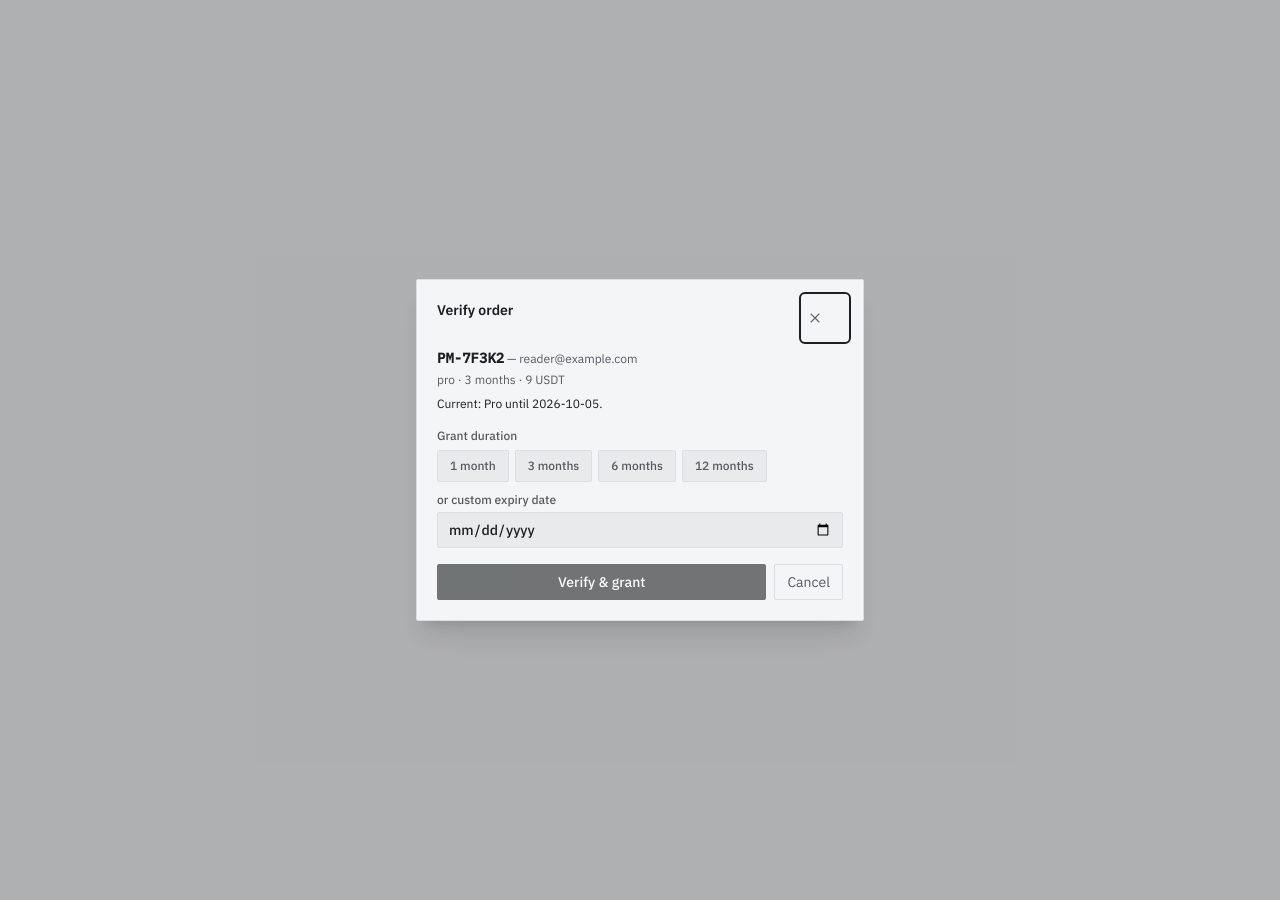
Test case: previews the stacked expiry when the user already has one
The width and height of the screenshot is (1280, 900).
Expected: the text "Current: Pro until 2026-10-05." is shown, [437,396,602,411]
Click the button with test id "duration-3" at coordinates (554, 466), box [515,450,592,482]
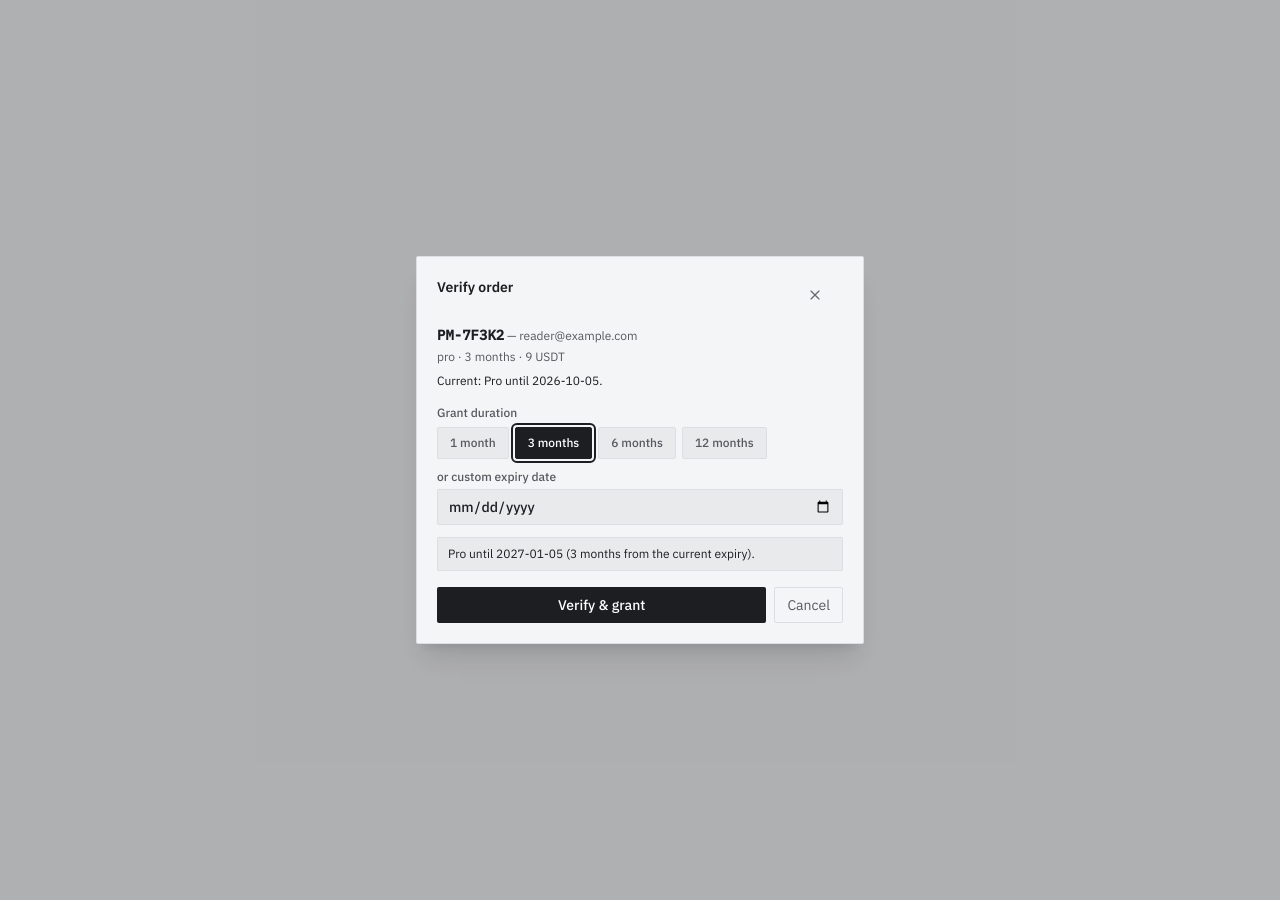
Expected: the text with test id "grant-preview" shows "2027-01-05", [496,546,563,561]
